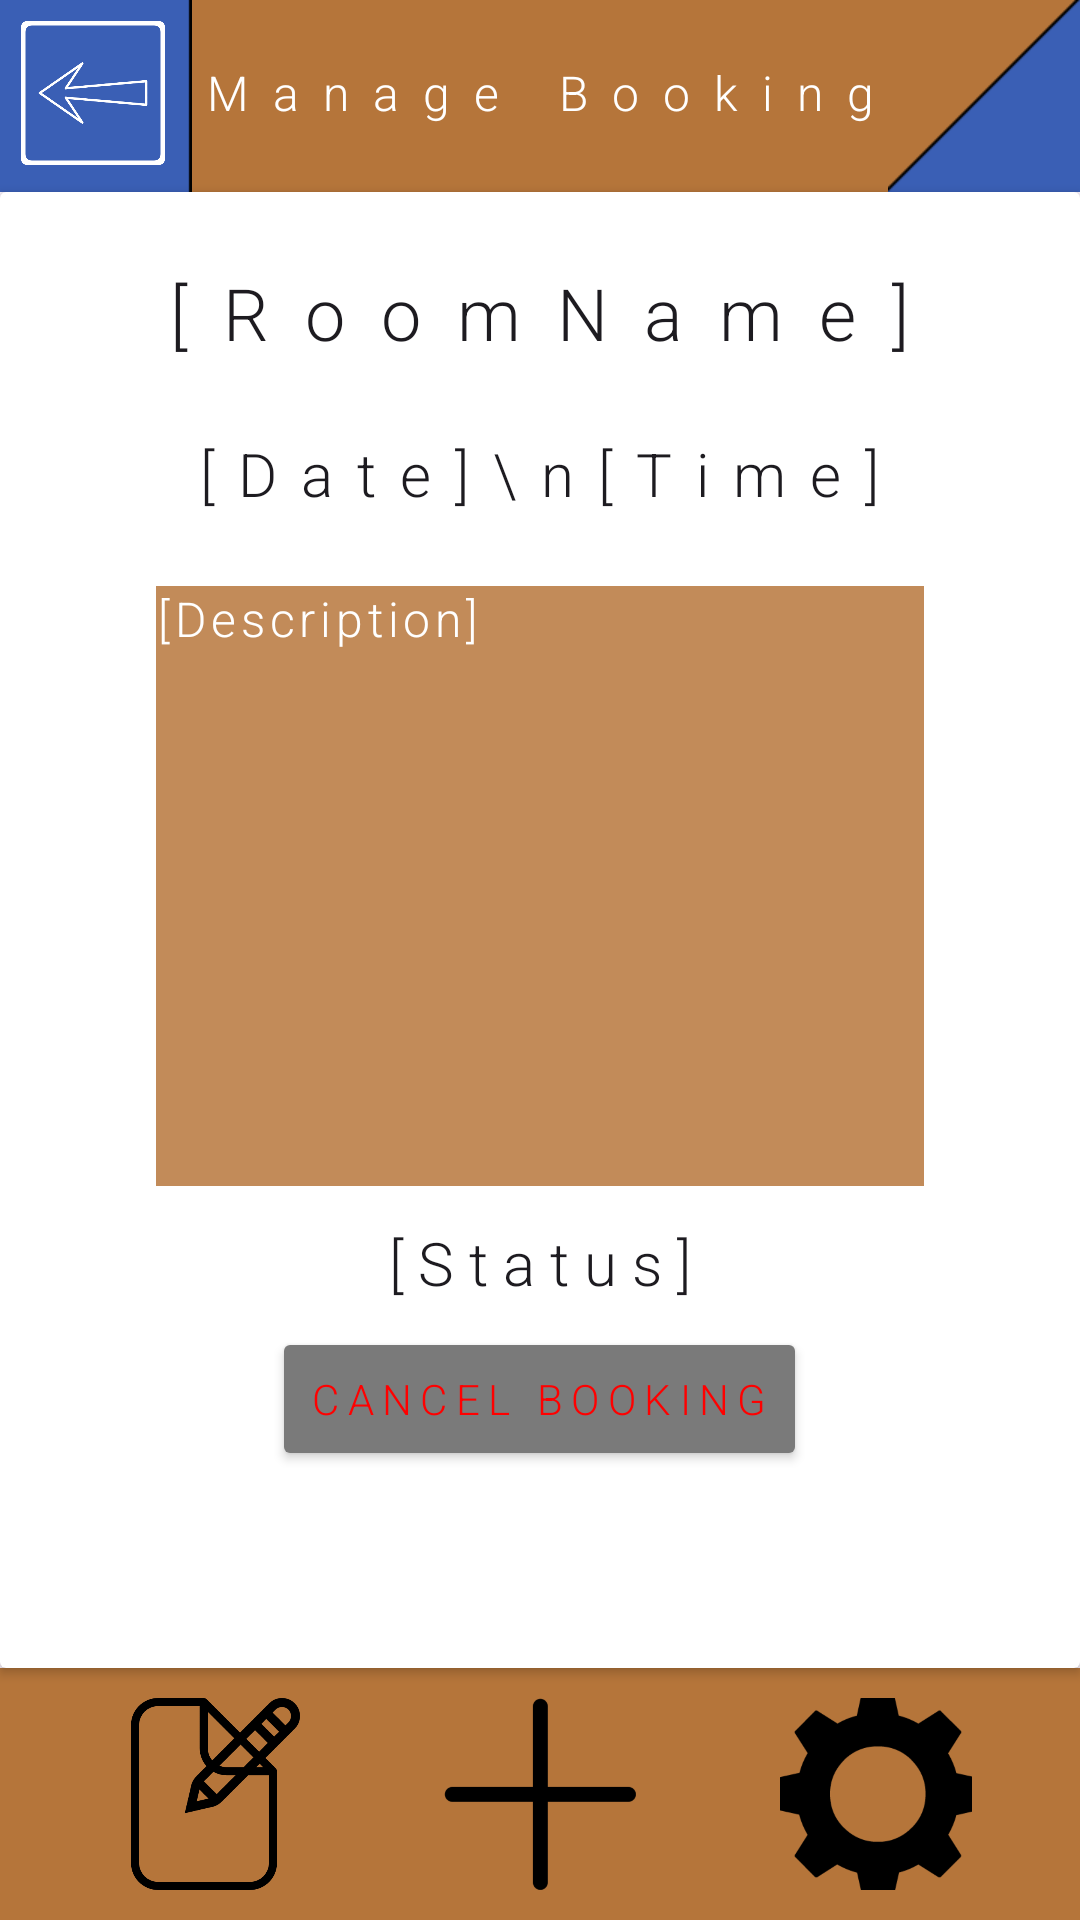

Icon click points for this 1080 × 1920 phone screenshot, format point (x, y):
create booking: point (540, 1794)
settings: point (876, 1794)
